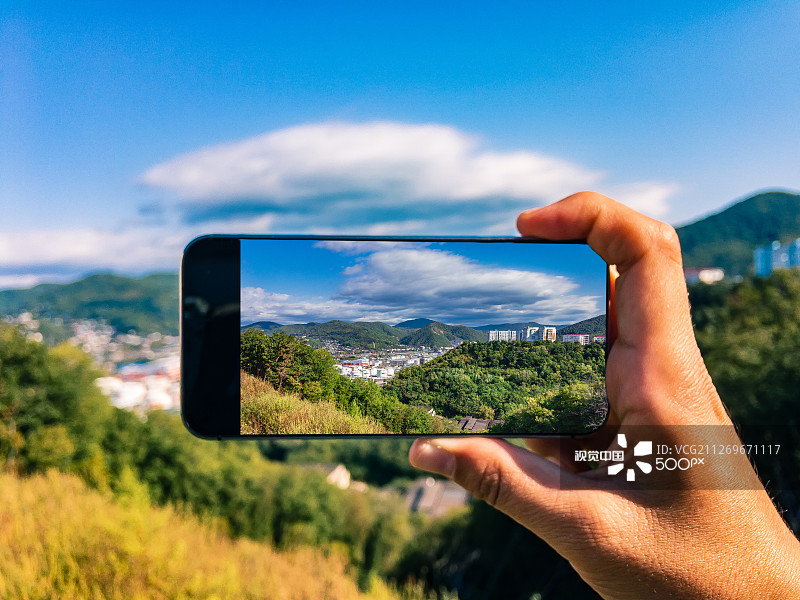taking photos: (185, 169, 800, 600)
